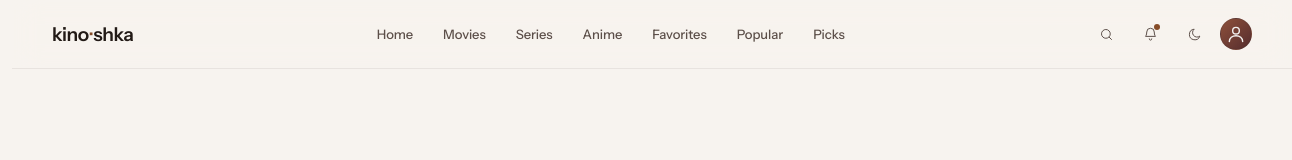
Test case: Header — nav pills синхронизируют ?type с фильтром/chips › клик по "Movies" на главной → /search?type=movie, фильтр и chip применяются
Click the button "Movies" at [464, 34], box [429, 17, 500, 51]
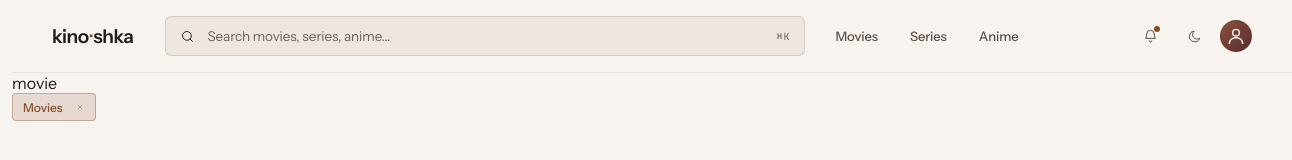
Expected: the text with test id "filter-type" reads "movie", [12, 73, 57, 93]
Expected: the number of buttons "Movies" is 2, [821, 19, 892, 53]; [12, 93, 96, 121]
